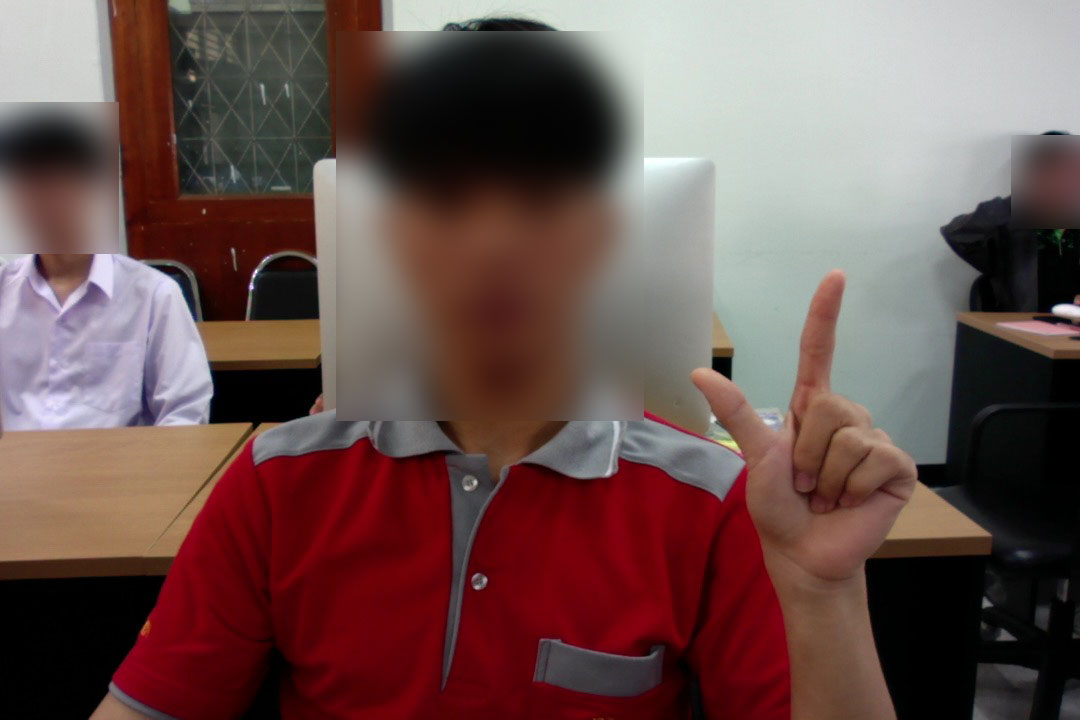lor: (671, 262, 930, 590)
